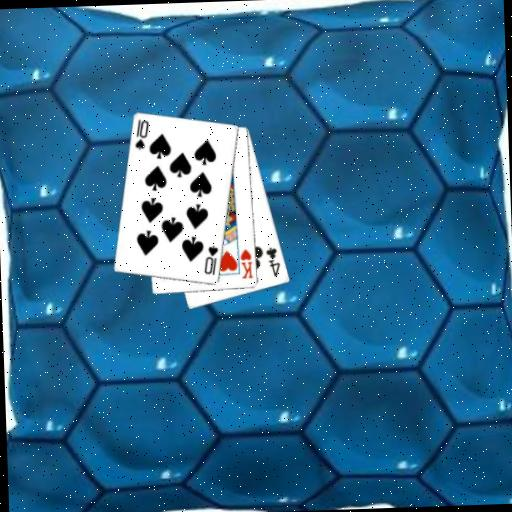10S: (130, 116, 150, 152), (200, 242, 220, 277)
4C: (263, 243, 282, 278)
KH: (236, 246, 254, 280)
